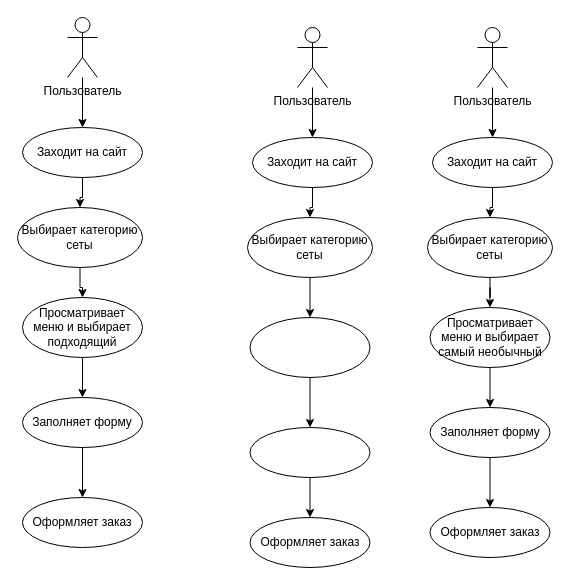
Image size: 570x585. Some labels were removed from this diagram. The box of each missing label's shape, as (x1, y1, x2, y2) in pixels:
Переходит в гарниры и выбирает нужные: (249, 426, 370, 478)
Просматривает меню и выбирает нужный: (249, 316, 370, 378)
